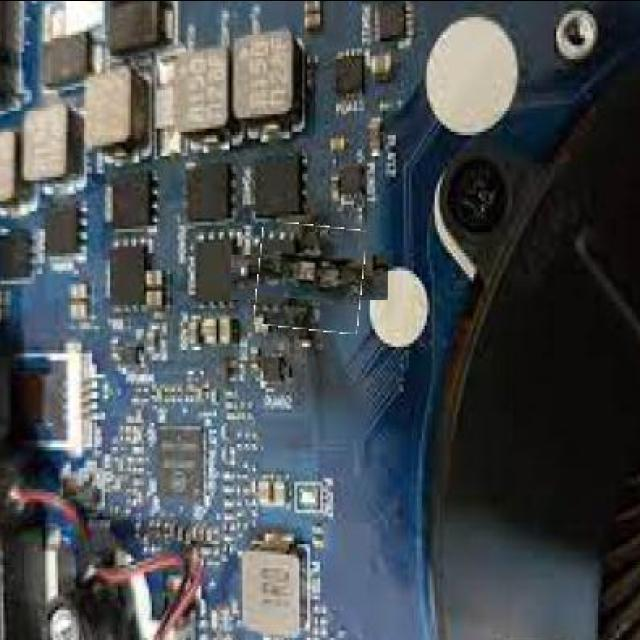Burn: (256, 222, 364, 330)
